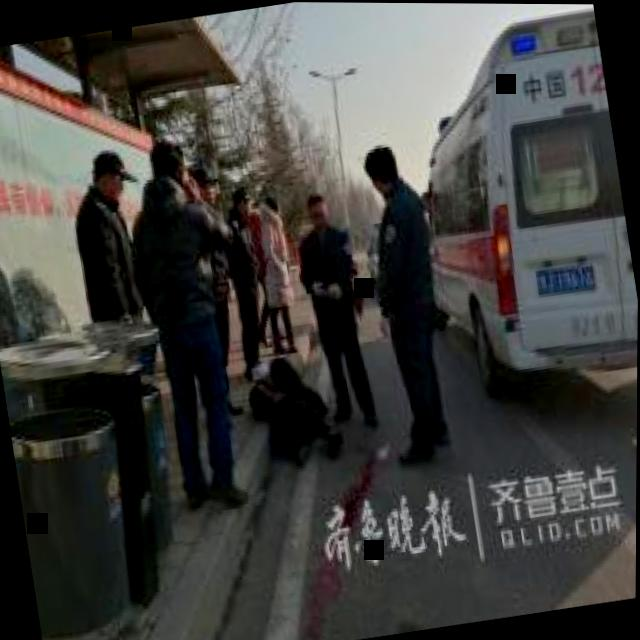Fall-Detected: (227, 325, 349, 474)
